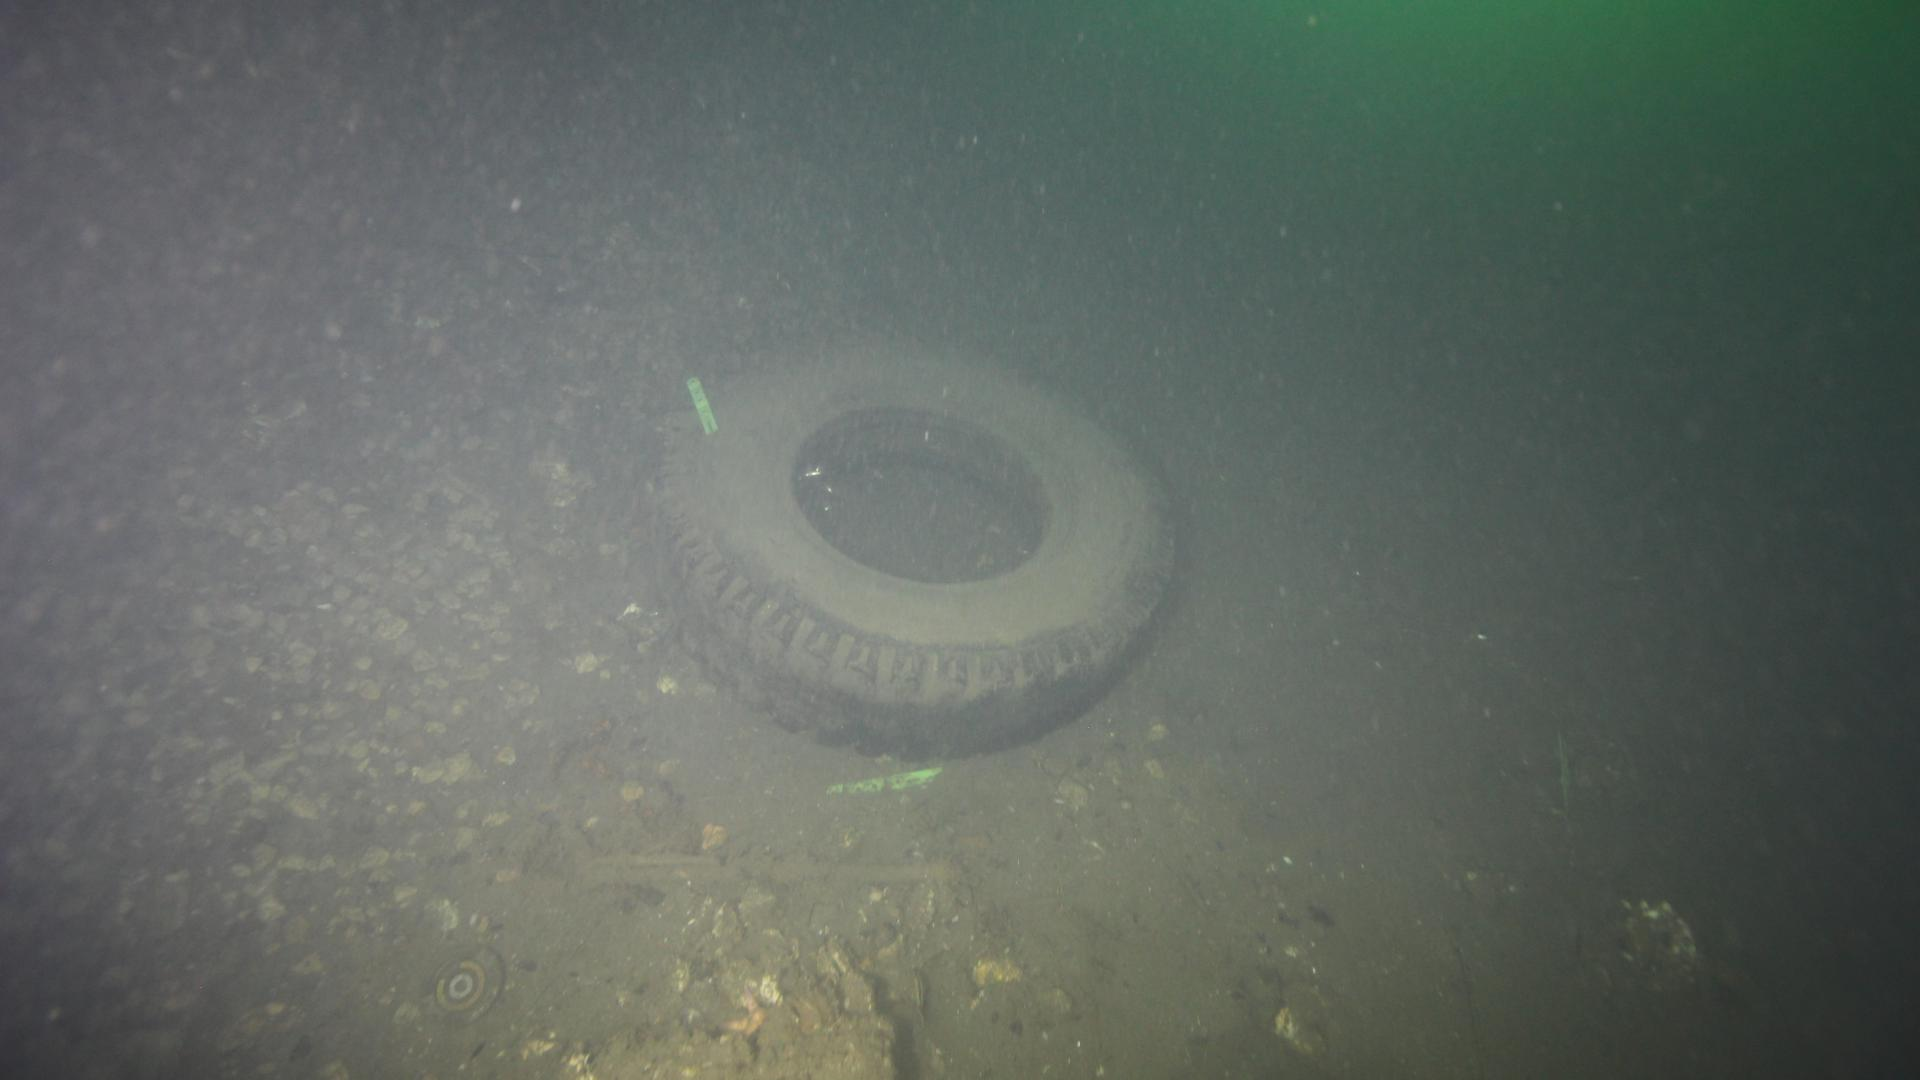tire: (633, 330, 1176, 756)
